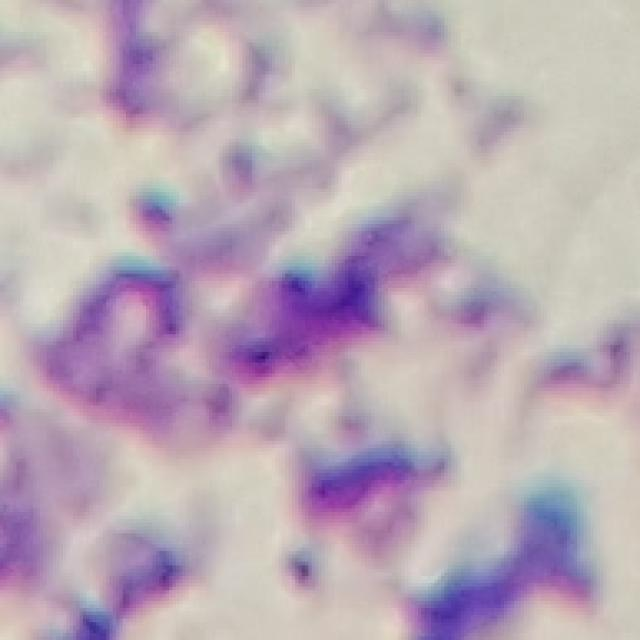non-sperm: (44, 250, 403, 446)
